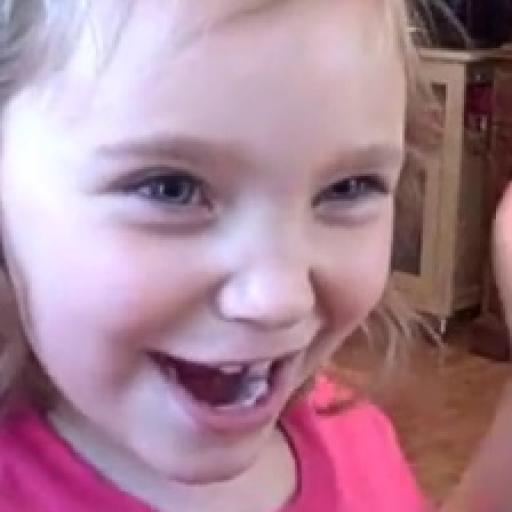Autism: (38, 32, 450, 503)
